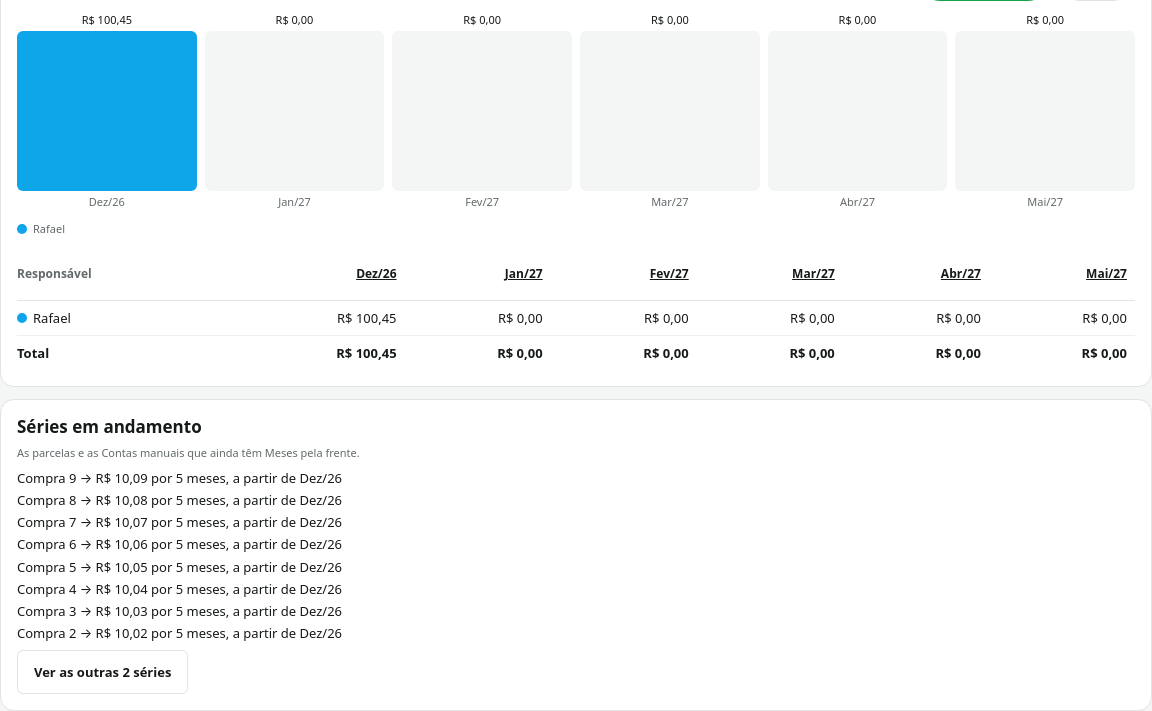
Test: as Séries em andamento › limita a lista e mostra o resto atrás de 'Ver as outras N séries'
(page scrolled)
Click the button "Ver as outras 2 séries". click: (103, 672)
box: [17,650,188,694]
(page scrolled)
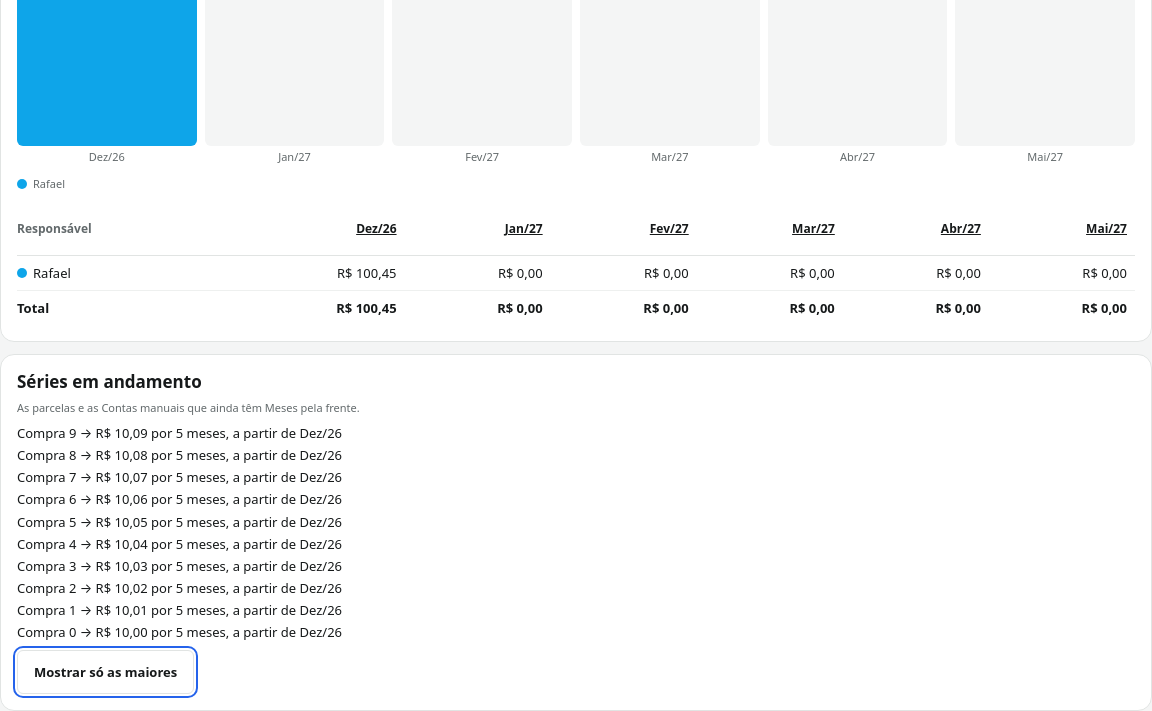
expect the button "Mostrar só as maiores" is expanded: met, box [17,650,194,694]
